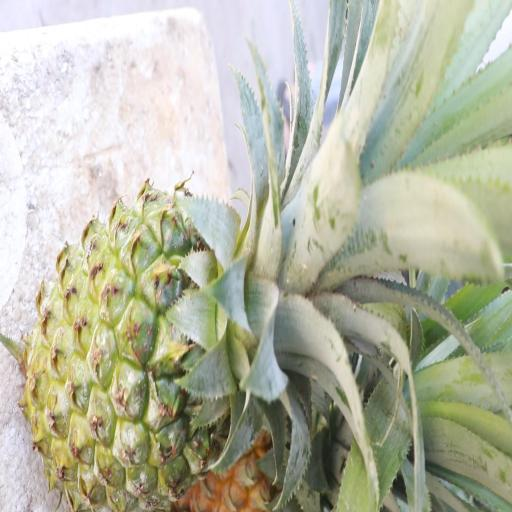------------------------------: (32, 208, 273, 502)
